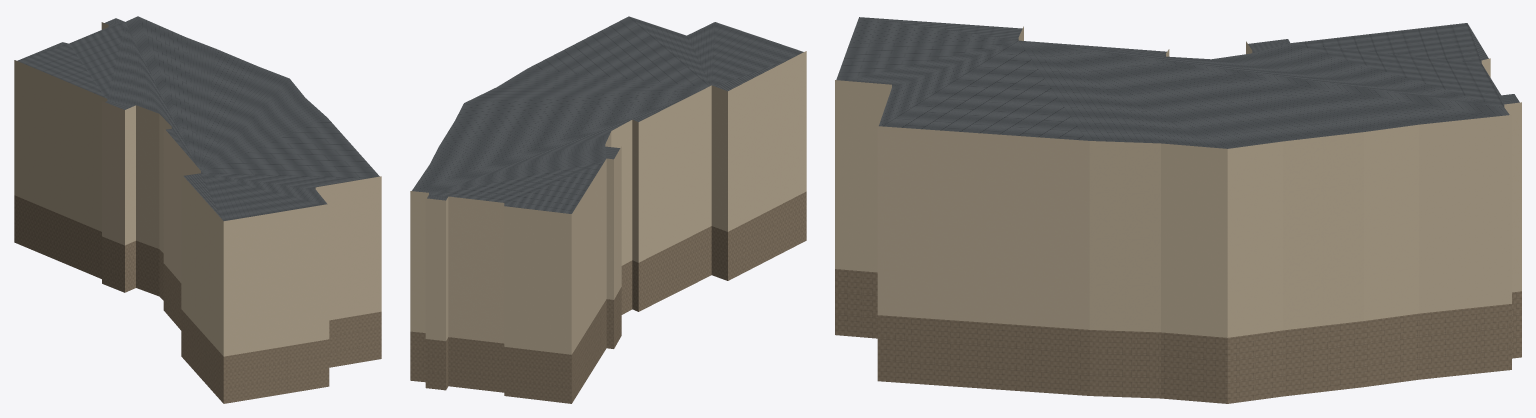
The model's file is core_0013.gltf.
3 views of the same model, side by side, from view 1: azimuth 30°, elevation 25°; view 2: azimuth 150°, elevation 25°; view 3: azimuth 270°, elevation 25° (orthographic). The views are drawn at different scales.
Visible parts, largest first — view 1: core_0013; view 2: core_0013; view 3: core_0013.
Part boxes in pixels (left/top/right/bottom): core_0013: left=14, top=16, right=381, bottom=403; core_0013: left=410, top=16, right=806, bottom=403; core_0013: left=835, top=17, right=1521, bottom=403.
Size of the model in its own units: 22.32 by 19.68 by 48.02.
3 materials, 3 textured.
